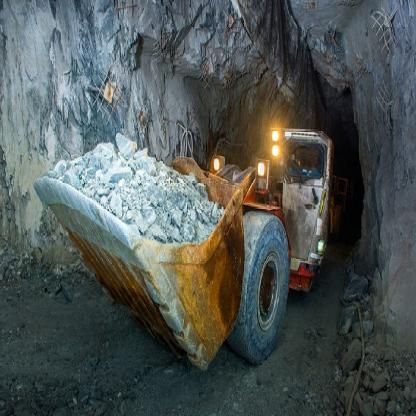bull_dozer/loader/grader: (51, 90, 372, 367)
